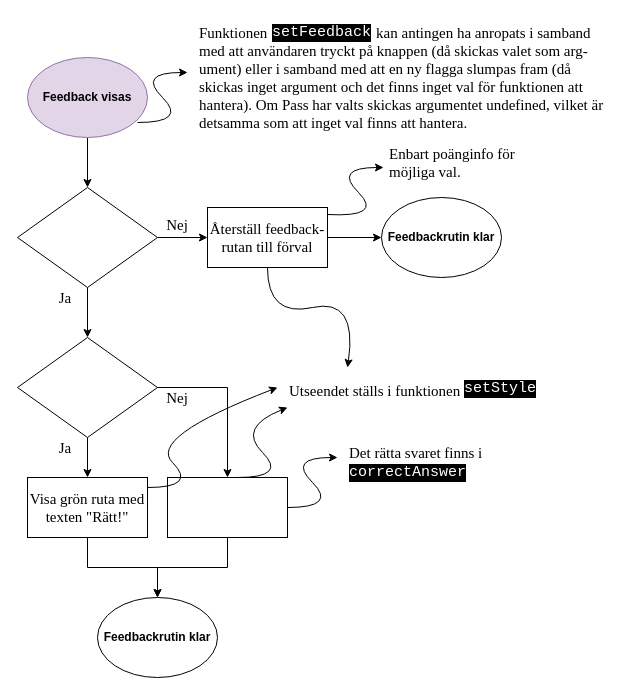
Some shapes in this 635 by 695 pixel diagram are drawn without their labels. The shapes that lost their labels are listed below. From the top down, each one's box as (x1, y1, x2, y2) in pixels, then its label:
(16, 186, 158, 288): Finns ett val att hantera?
(16, 336, 158, 438): Rätt alternativ valt?
(166, 476, 288, 538): Visa röd ruta med det land som var rätt alternativ
